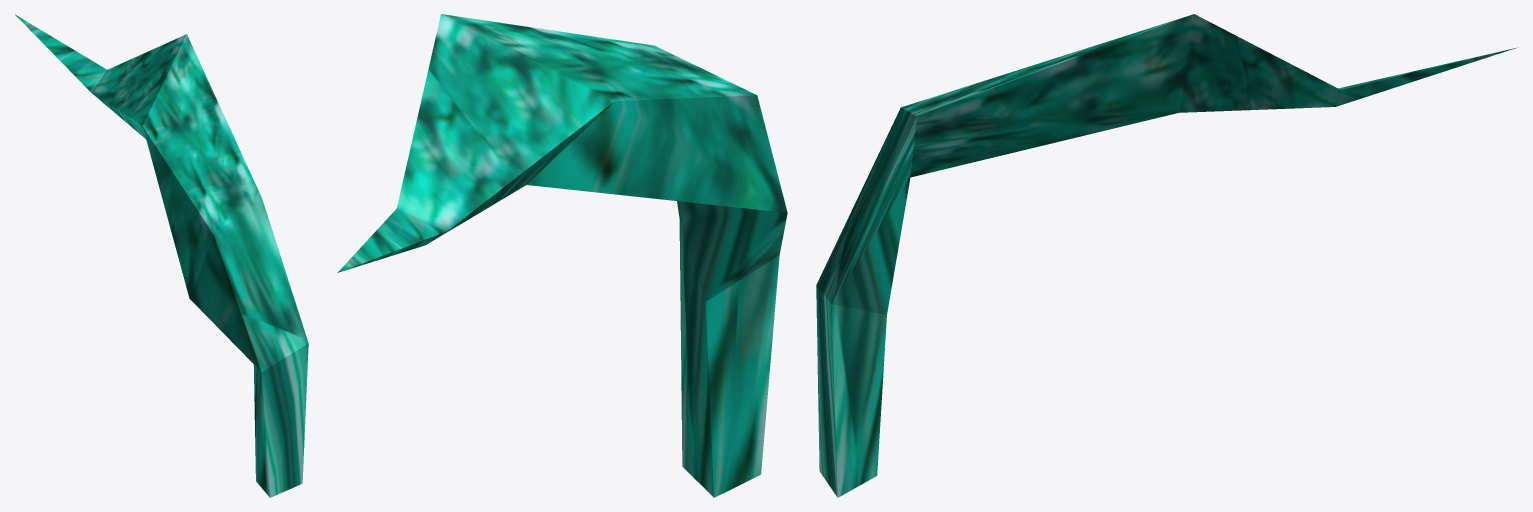
Rendered from H1_BluePlant_Branch_18.gltf.
3 views of the same model, side by side, from view 1: azimuth 30°, elevation 25°; view 2: azimuth 150°, elevation 25°; view 3: azimuth 270°, elevation 25° (orthographic). The views are drawn at different scales.
Visible parts, largest first — view 1: H1_BluePlant_Branch_18; view 2: H1_BluePlant_Branch_18; view 3: H1_BluePlant_Branch_18.
Part boxes in pixels (x1,y1,x2,y2): H1_BluePlant_Branch_18: [15, 14, 308, 497]; H1_BluePlant_Branch_18: [337, 14, 787, 497]; H1_BluePlant_Branch_18: [816, 14, 1515, 497].
Size of the model in its own units: 0.7607 by 2.59 by 3.35.
1 material, 1 textured.
